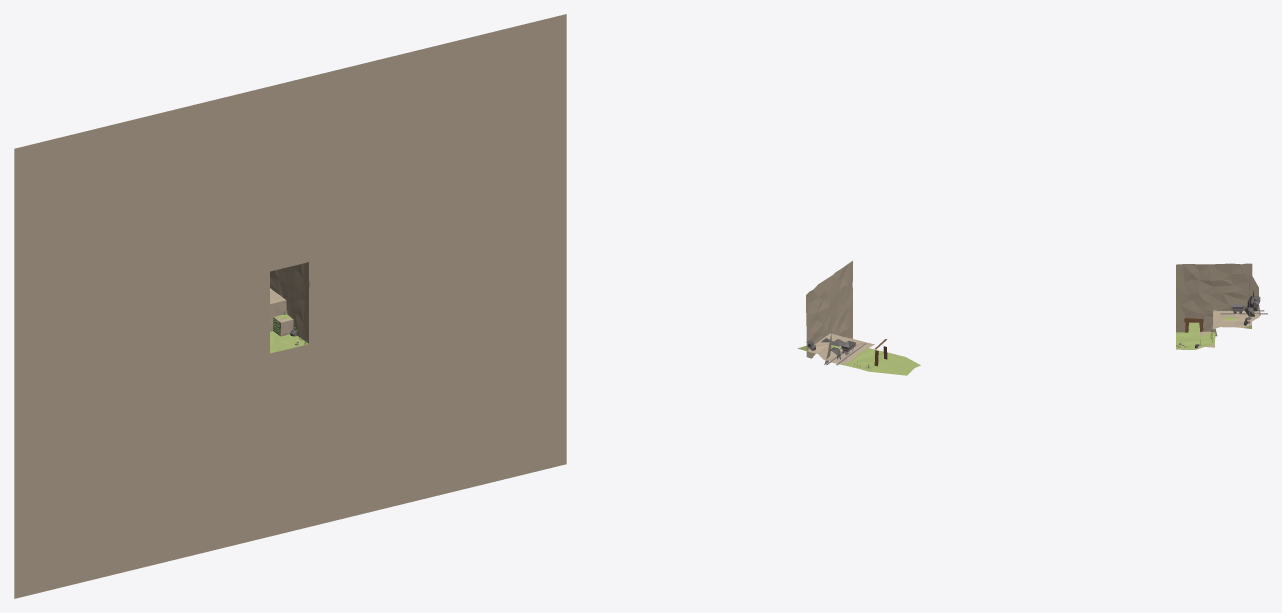
The model's file is cave-A.glb.
3 views of the same model, side by side, from view 1: azimuth 30°, elevation 25°; view 2: azimuth 150°, elevation 25°; view 3: azimuth 270°, elevation 25° (orthographic). The views are drawn at different scales.
Parts seen in each view (by area): view 1: cabe-A; view 2: cabe-A; view 3: cabe-A.
Boxes of the visible parts, x1=… form: cabe-A: x1=14, y1=14, x2=566, y2=598; cabe-A: x1=797, y1=261, x2=920, y2=375; cabe-A: x1=1176, y1=263, x2=1267, y2=349.
Size of the model in its own units: 42.26 by 32.91 by 7.48.
Materials: 2 (2 with a texture image).
